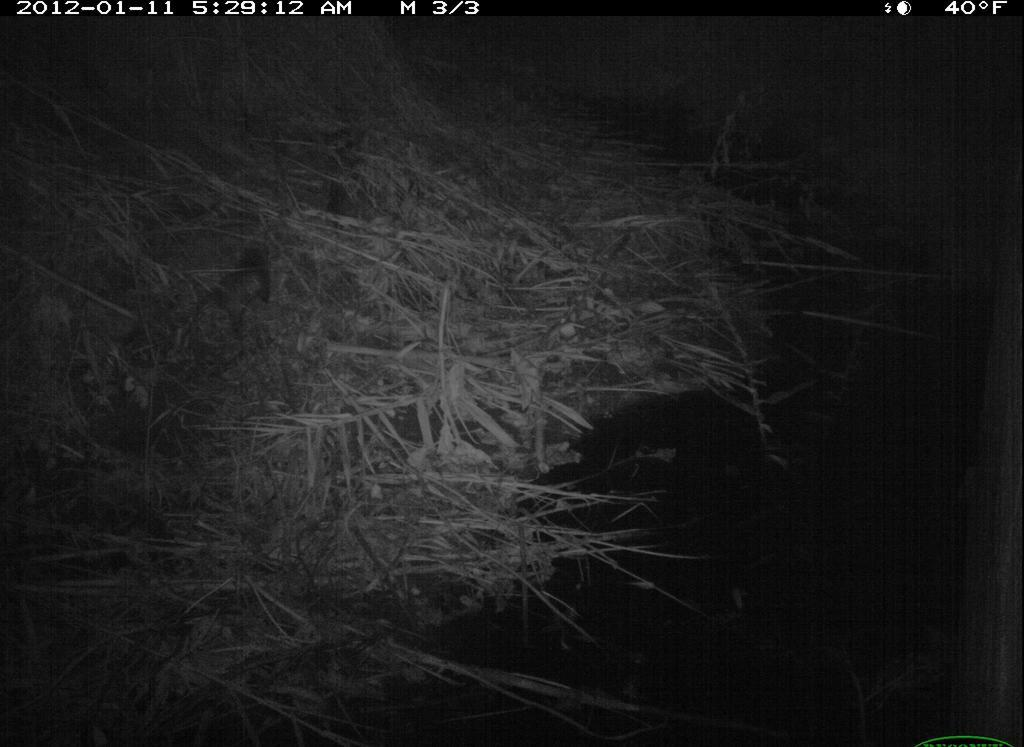opossum: (185, 239, 278, 359)
